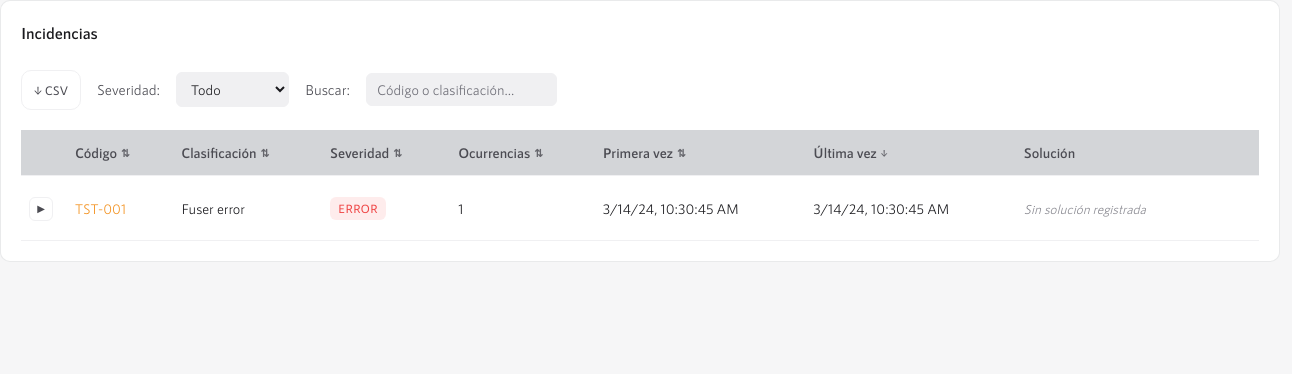
Test: IncidentsTable › botón "ver más" expande mensaje truncado
Note: Expandir la fila
Click the button named "Expandir detalle".
click(41, 209)  # box [29,197,53,221]
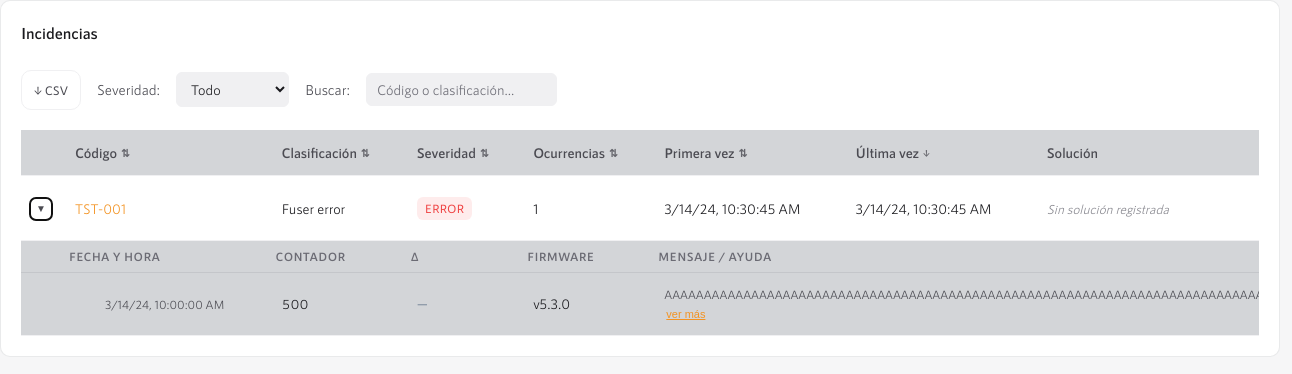
Result: the button "ver más" is shown
Note: Click en "ver más" para expandir el mensaje
Click the button "ver más".
click(686, 314)  # box [666,306,705,323]
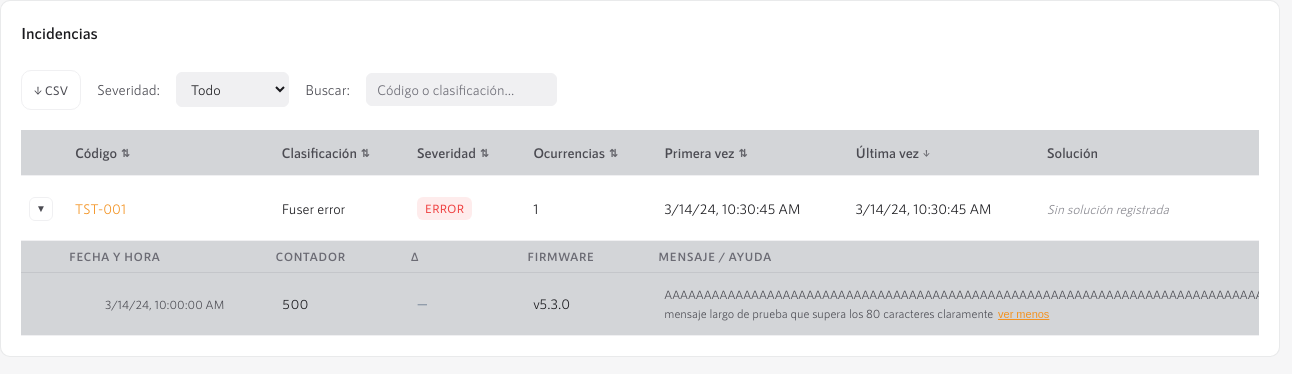
Result: the button "ver menos" is shown at [998,306,1049,323]
